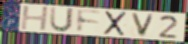2: (158, 14, 181, 40)
F: (76, 8, 103, 34)
H: (19, 6, 50, 32)
U: (48, 6, 76, 34)
V: (130, 12, 157, 39)
X: (102, 10, 129, 37)
